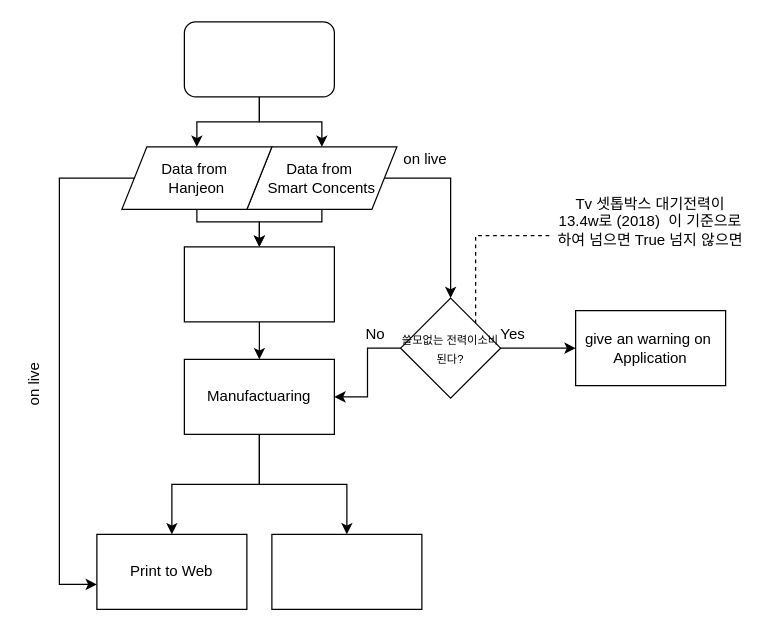
Some shapes in this 765 by 631 pixel diagram are drawn without their labels. The shapes that lost their labels are listed below. From the top down, each one's box as (x1, y1, x2, y2) in pixels, then its label:
(183, 21, 334, 97): Start
(183, 246, 334, 322): import Data to DB
(271, 533, 422, 609): Print to Application
